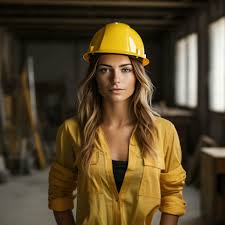HELMET: (84, 23, 149, 66)
